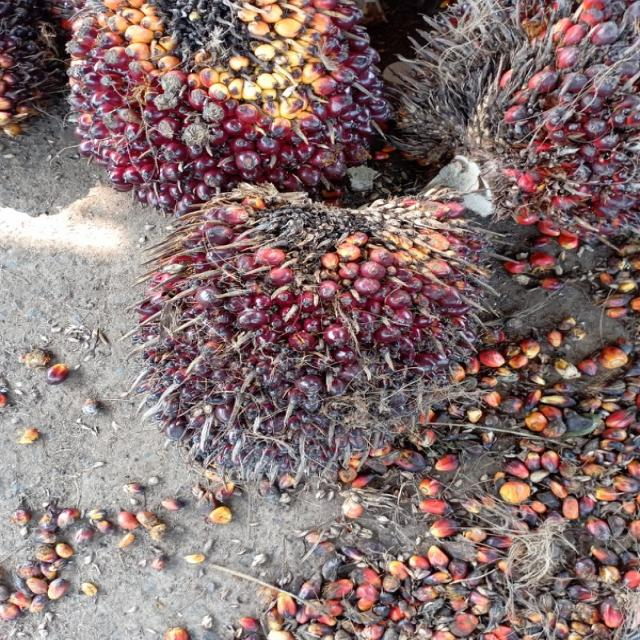fraksi 1: (111, 193, 512, 494), (67, 0, 382, 198)
